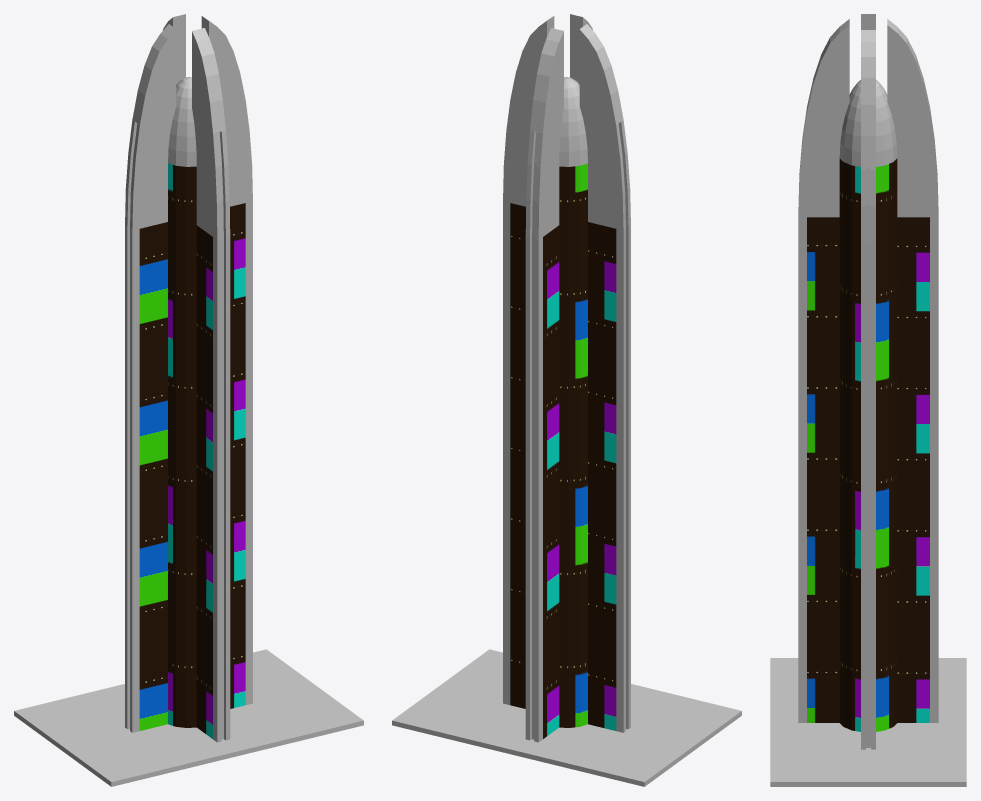
Rendered from FUT0210055.fbx.
3 views of the same model, side by side, from view 1: azimuth 30°, elevation 25°; view 2: azimuth 150°, elevation 25°; view 3: azimuth 270°, elevation 25° (orthographic).
Parts seen in each view (by area): view 1: smFUT0210055; view 2: smFUT0210055; view 3: smFUT0210055.
Part boxes in pixels (x1,y1,x2,y2): smFUT0210055: [14, 14, 363, 786]; smFUT0210055: [392, 14, 741, 786]; smFUT0210055: [770, 14, 966, 786].
Size of the model in its own units: 1316 by 3476 by 879.
